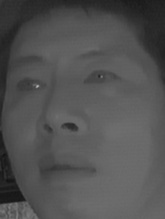eye: (82, 64, 121, 90), (14, 73, 48, 97)
mouth: (34, 152, 97, 188)
